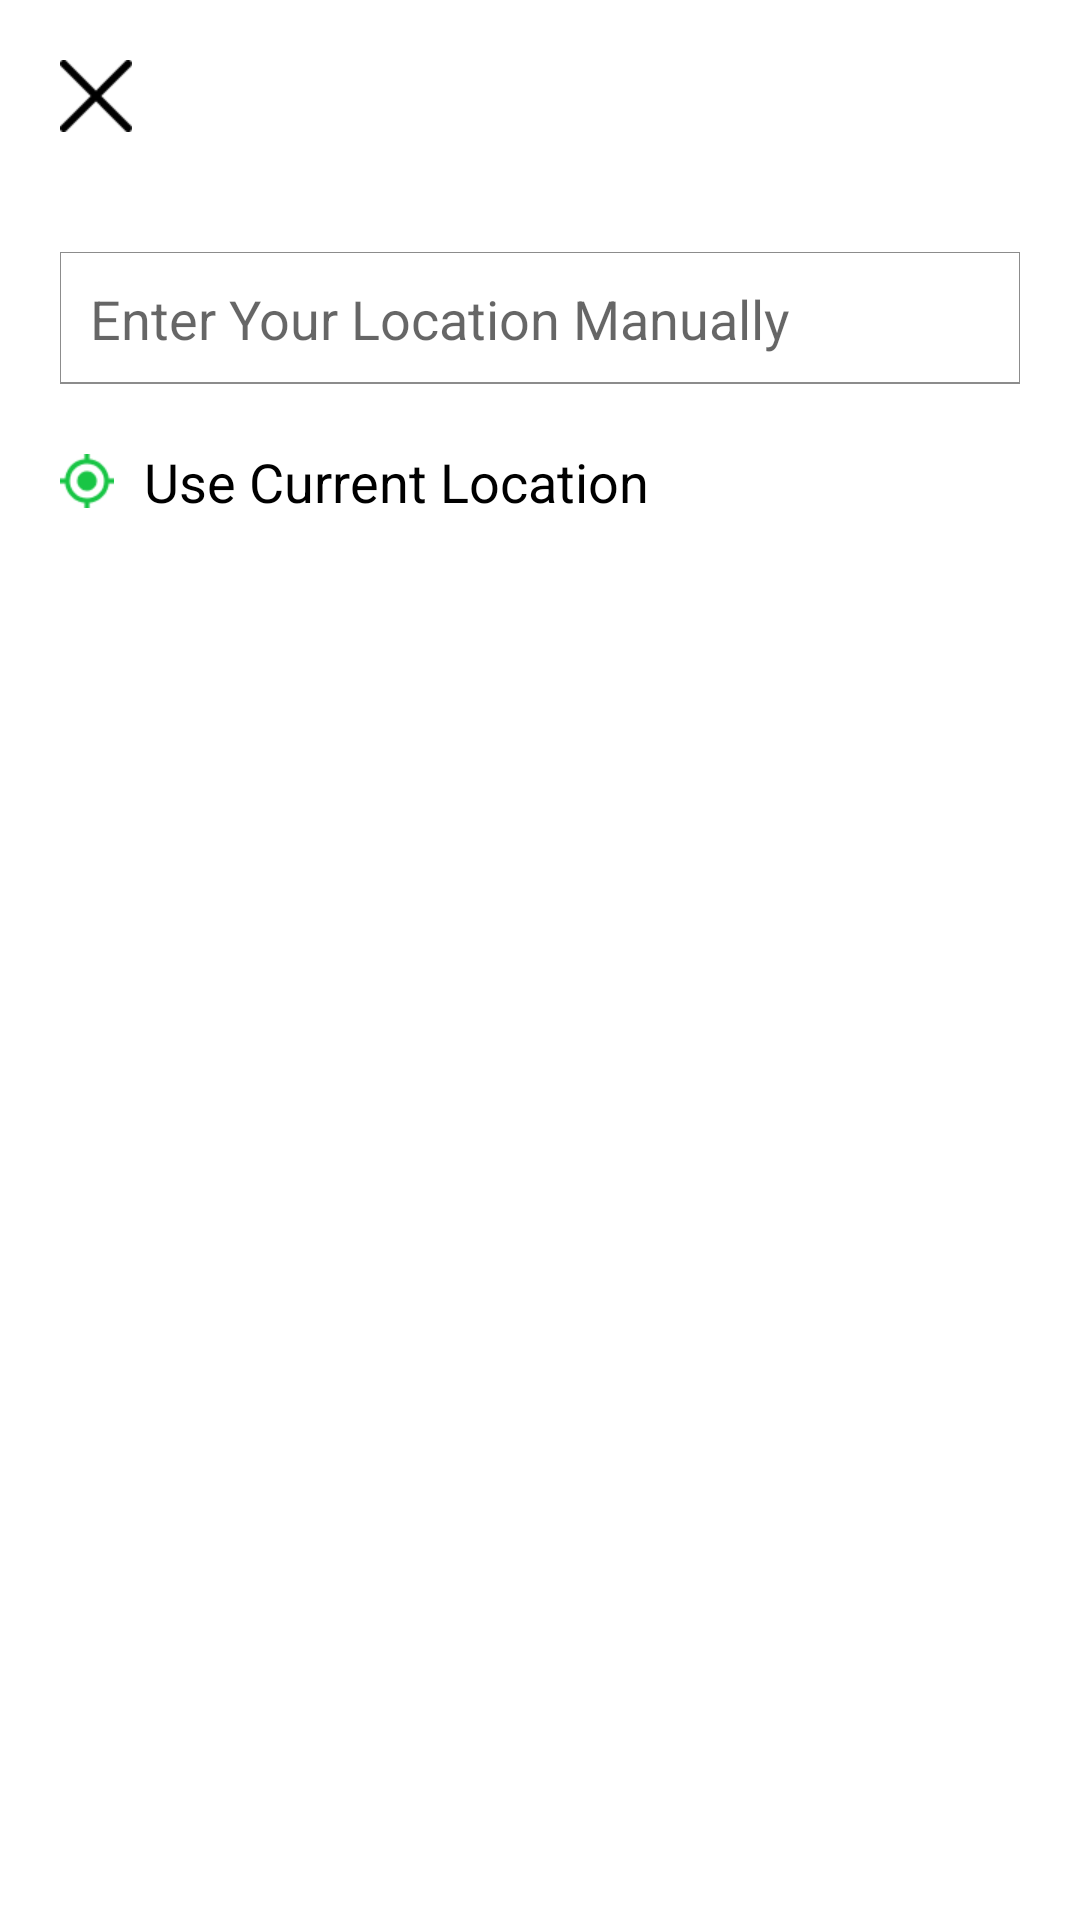

Where icons sit on this 1080 x 1920 app screen, as (x1, y1, x2, y2):
clear: (60, 60, 132, 132)
